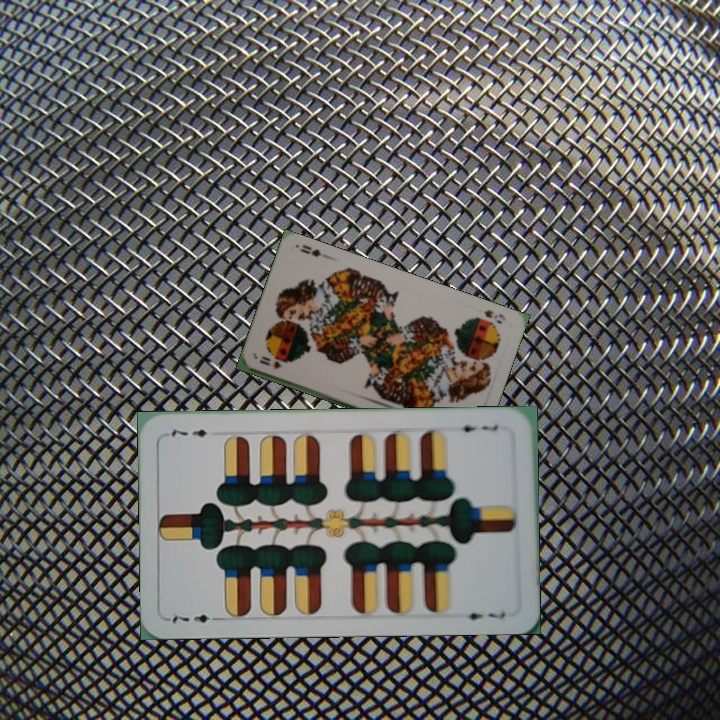E7: (165, 609, 224, 626), (452, 420, 501, 435)
SO: (480, 306, 508, 327), (256, 356, 285, 371)
